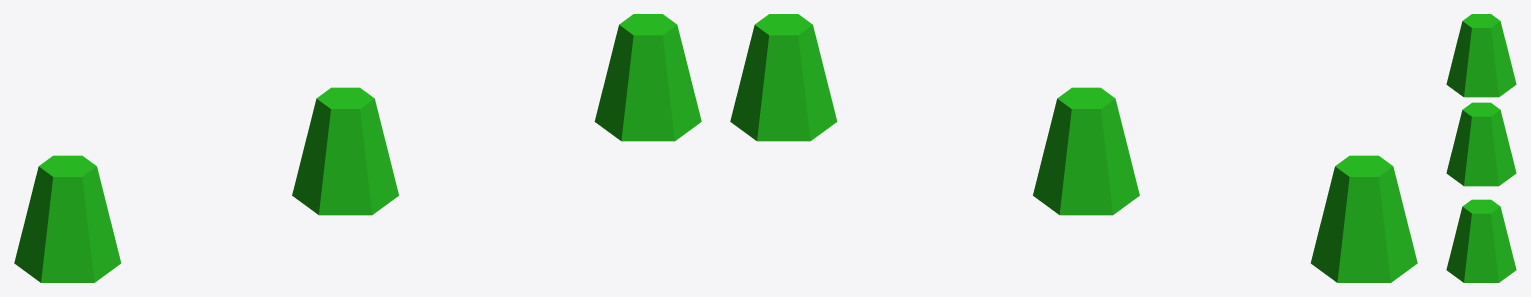
Rendered from shiplightstop.obj.
The picture shows the model from 3 angles, left to right: view 1: azimuth 30°, elevation 25°; view 2: azimuth 150°, elevation 25°; view 3: azimuth 270°, elevation 25°; orthographic projection. The views are drawn at different scales.
Parts seen in each view (by area): view 1: Light.002; view 2: Light.002; view 3: Light.002.
Part boxes in pixels (x1=…): Light.002: x1=14, y1=14, x2=701, y2=282; Light.002: x1=730, y1=14, x2=1417, y2=282; Light.002: x1=1446, y1=14, x2=1516, y2=282.
Size of the model in its own units: 3.39 by 0.476 by 0.476.
